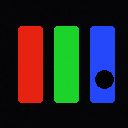2 circle: (95, 70, 113, 88)
